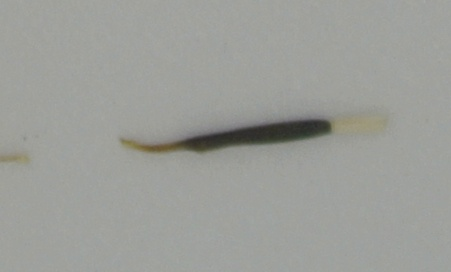เมล็ดงอกแตก: (118, 112, 389, 157)
